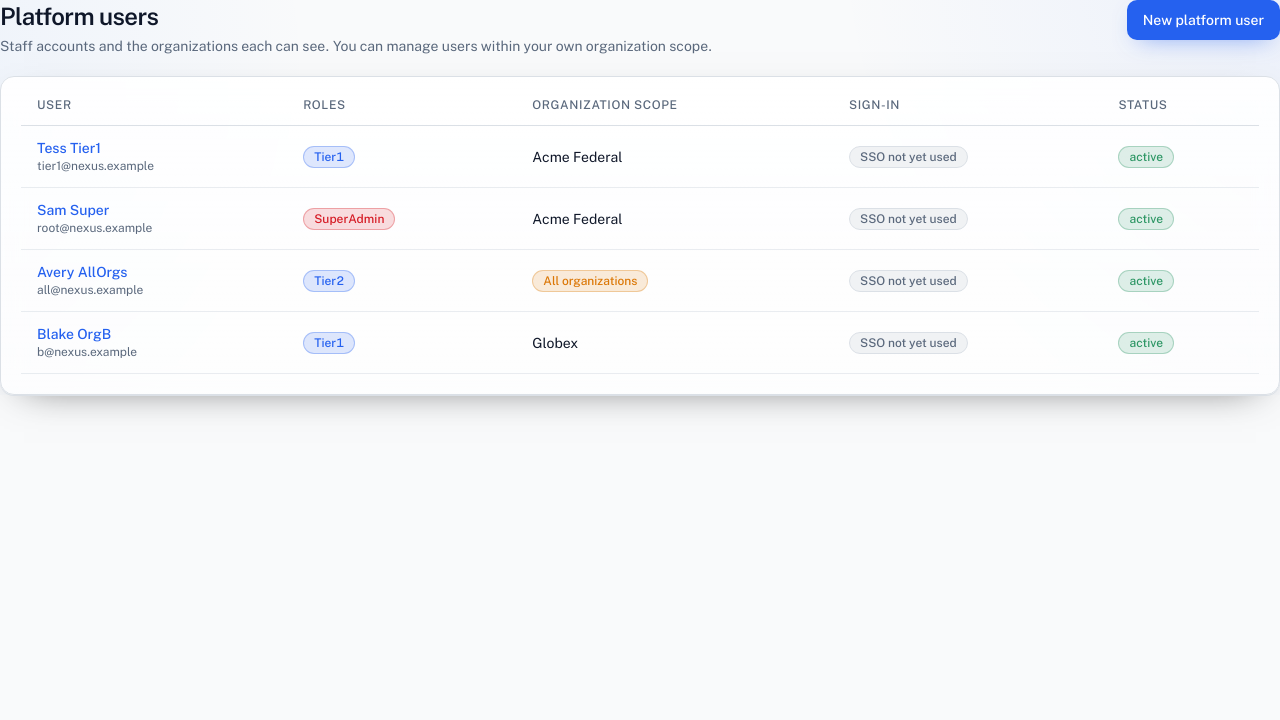
Scenario: TeamPage for a delegated admin › marks a user in an organization outside the admin’s scope read-only
Click the text "Blake OrgB" at (74, 334), box [37, 326, 111, 342]
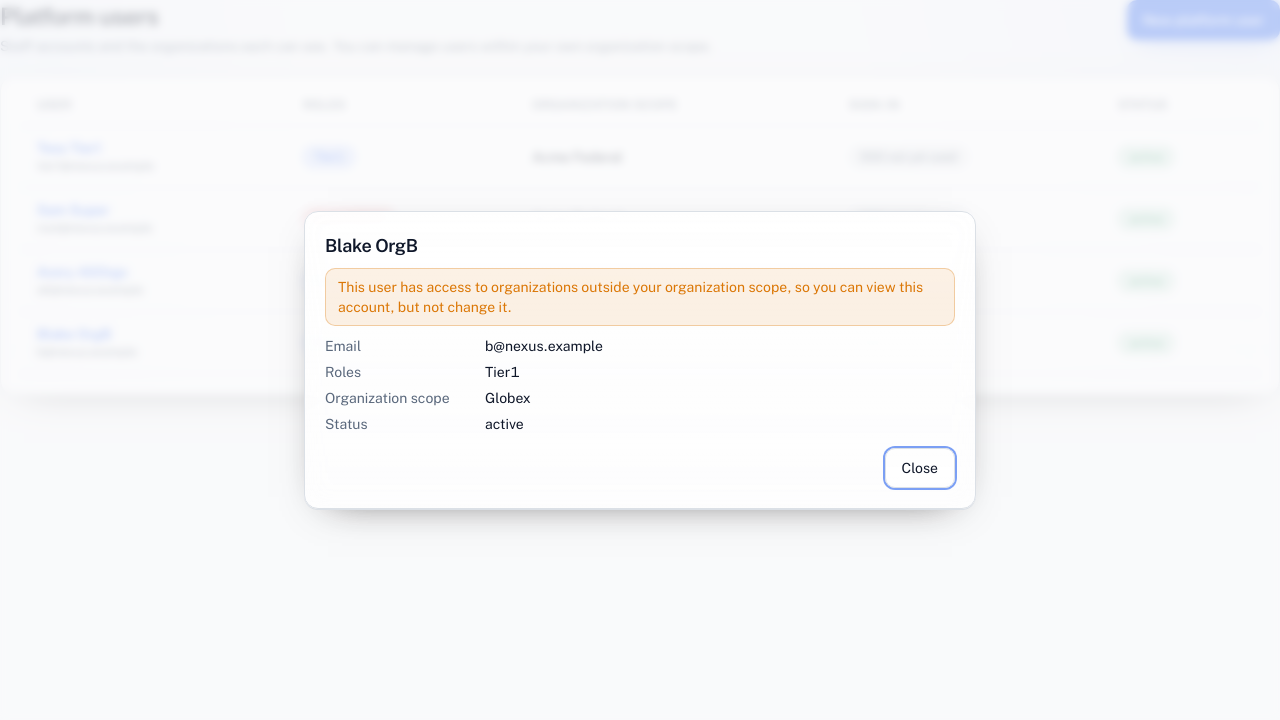
Check: the text "outside your organization scope" is shown, box [338, 279, 923, 315]
